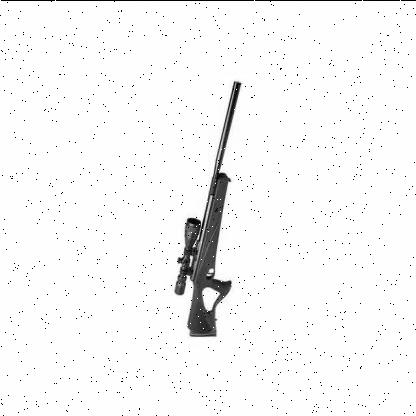rifle: (157, 70, 274, 345)
